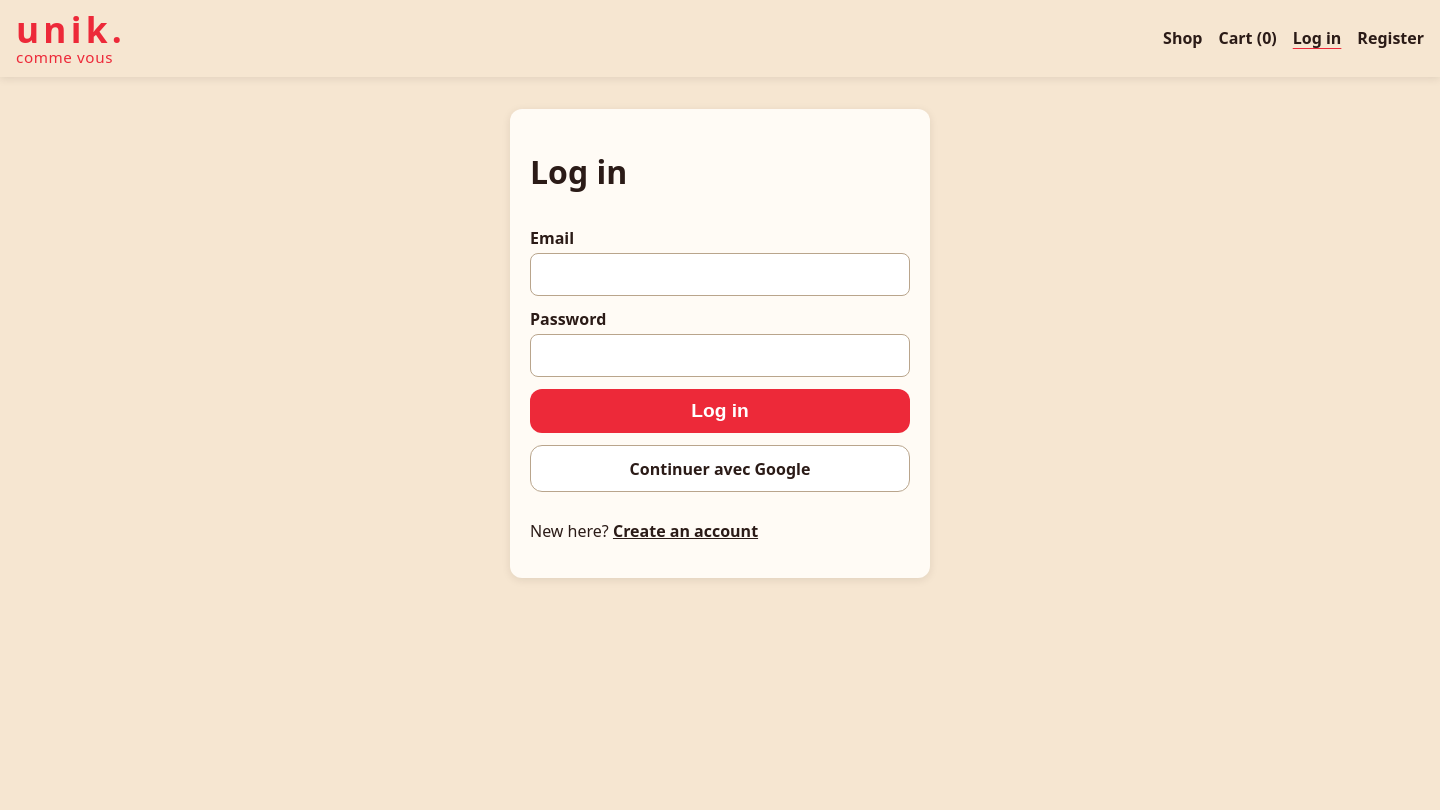
Test: logs in, updates the header and redirects
In the field labelled "Email": (720, 274) [530,253,910,296], type "a@b.co"
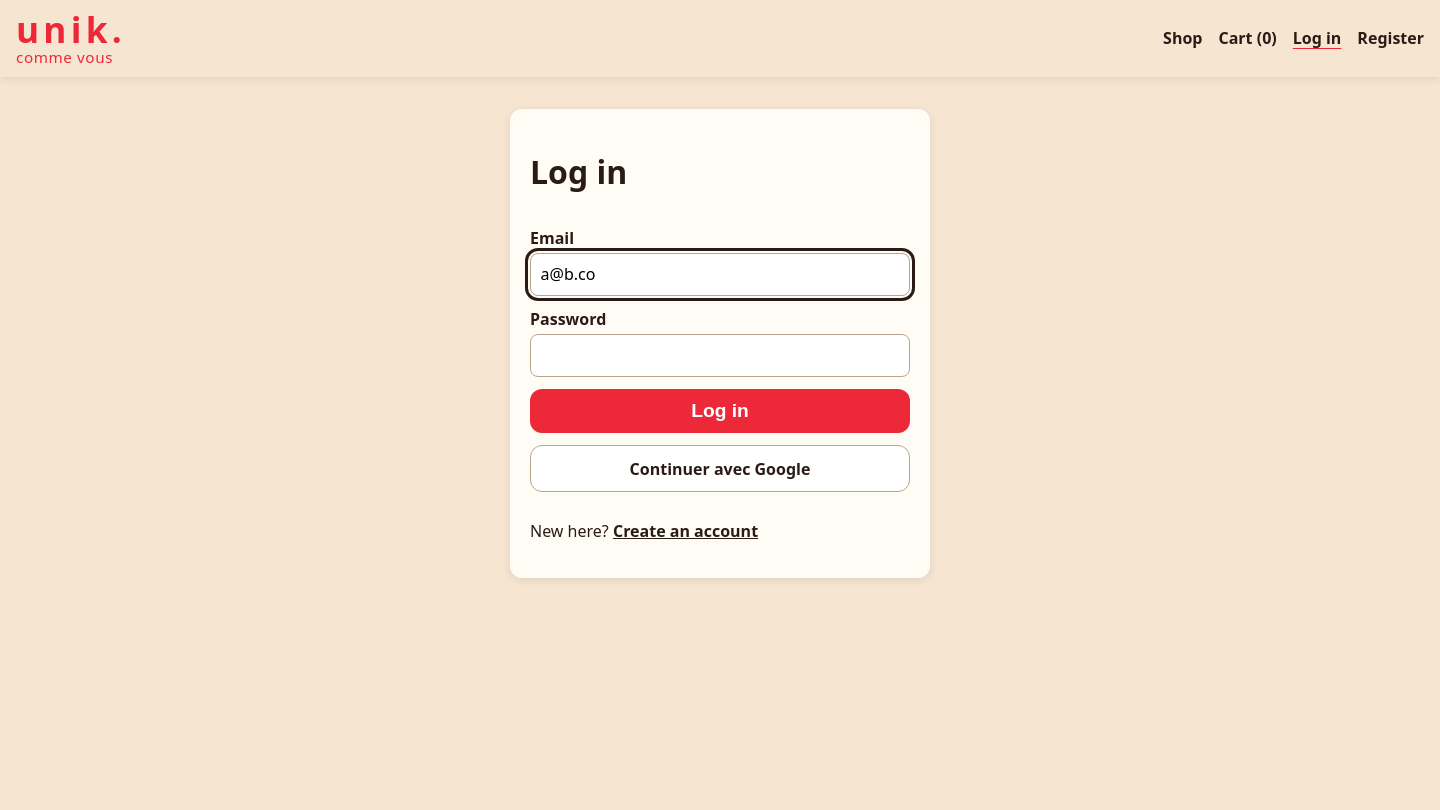
In the password field labelled "Password": (720, 356) [530,334,910,377], type "secret"
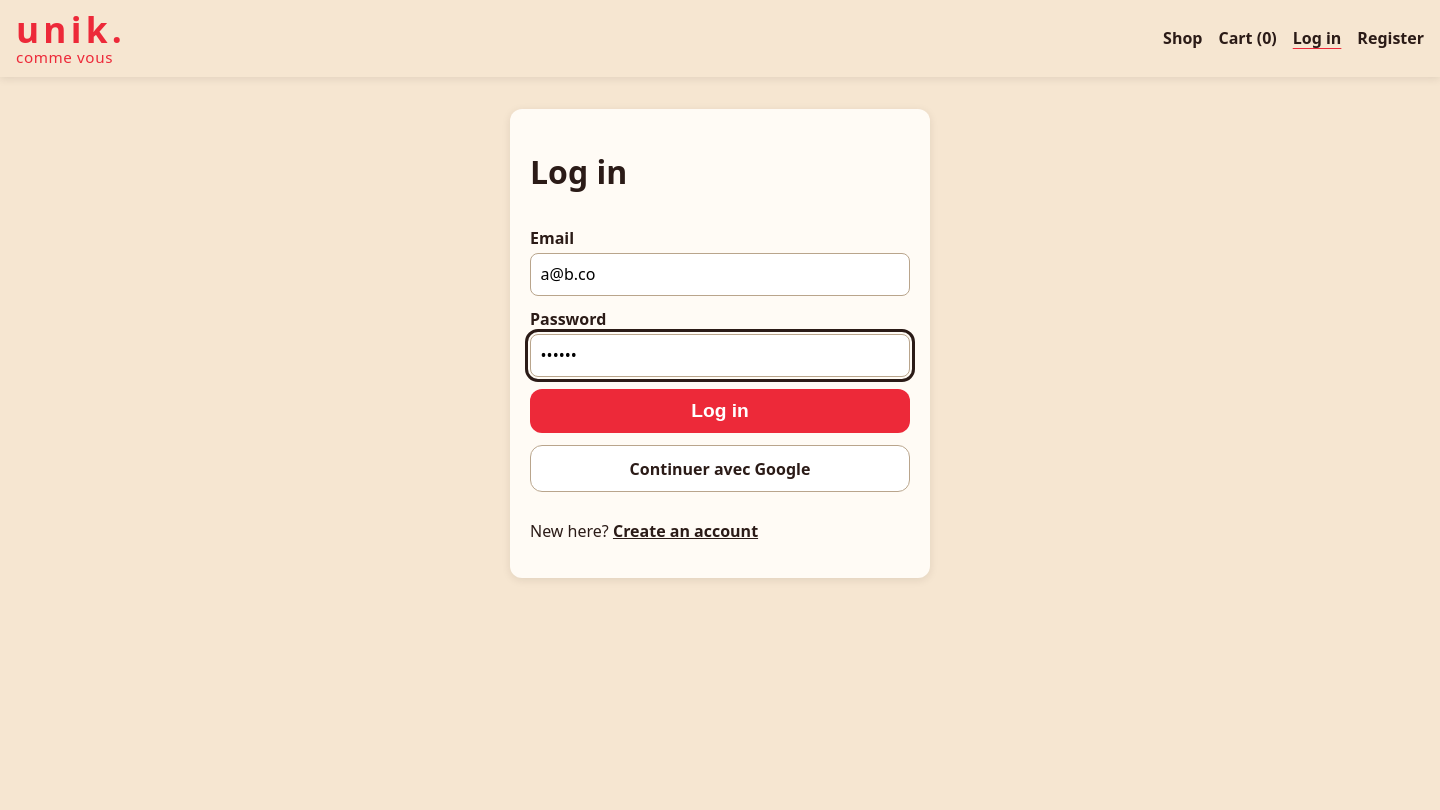
Click the button "Log in": (720, 411) [530,389,910,433]
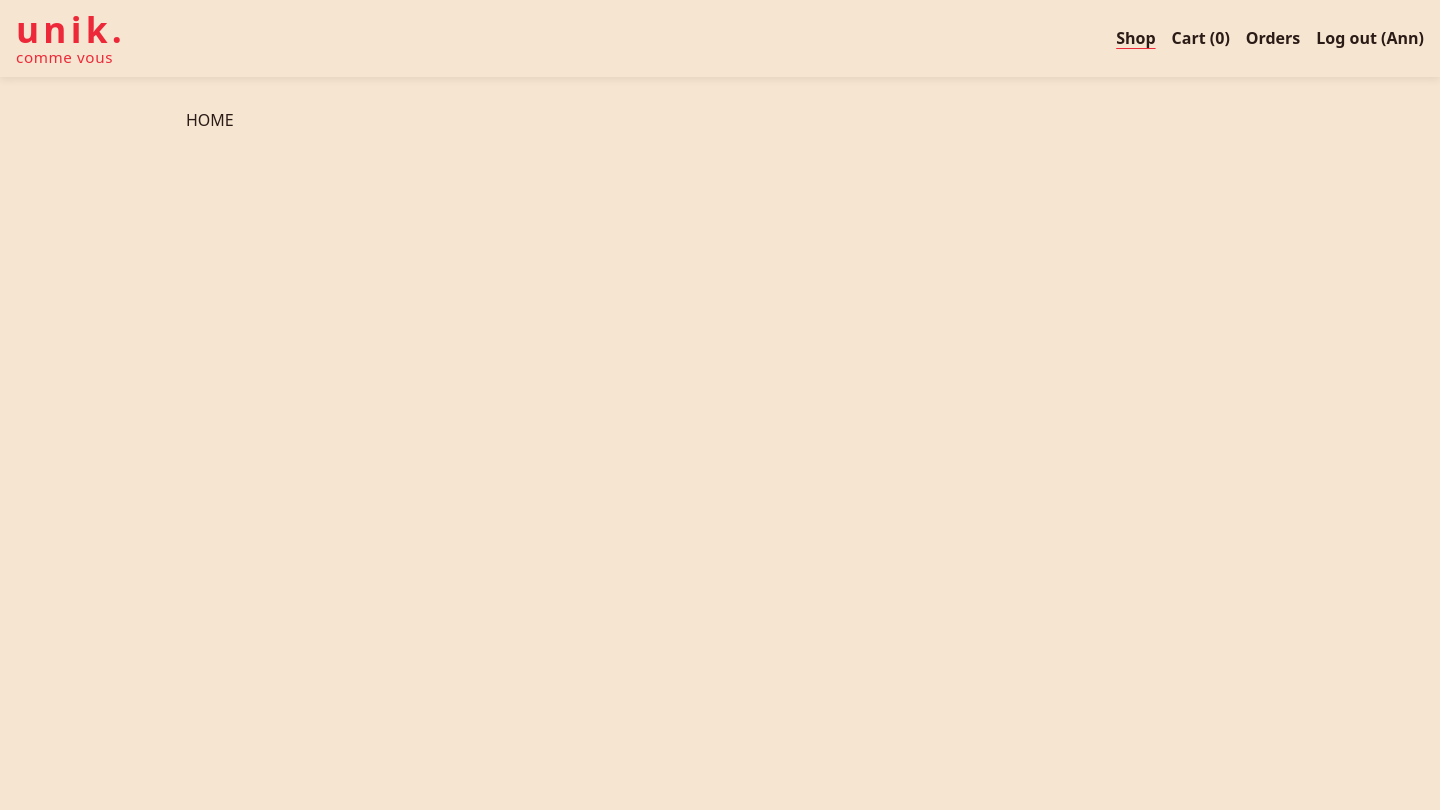
Expected: the text "HOME" is shown, [186,109,234,131]
Expected: the button "Log out (Ann)" is shown, [1316,27,1424,49]
